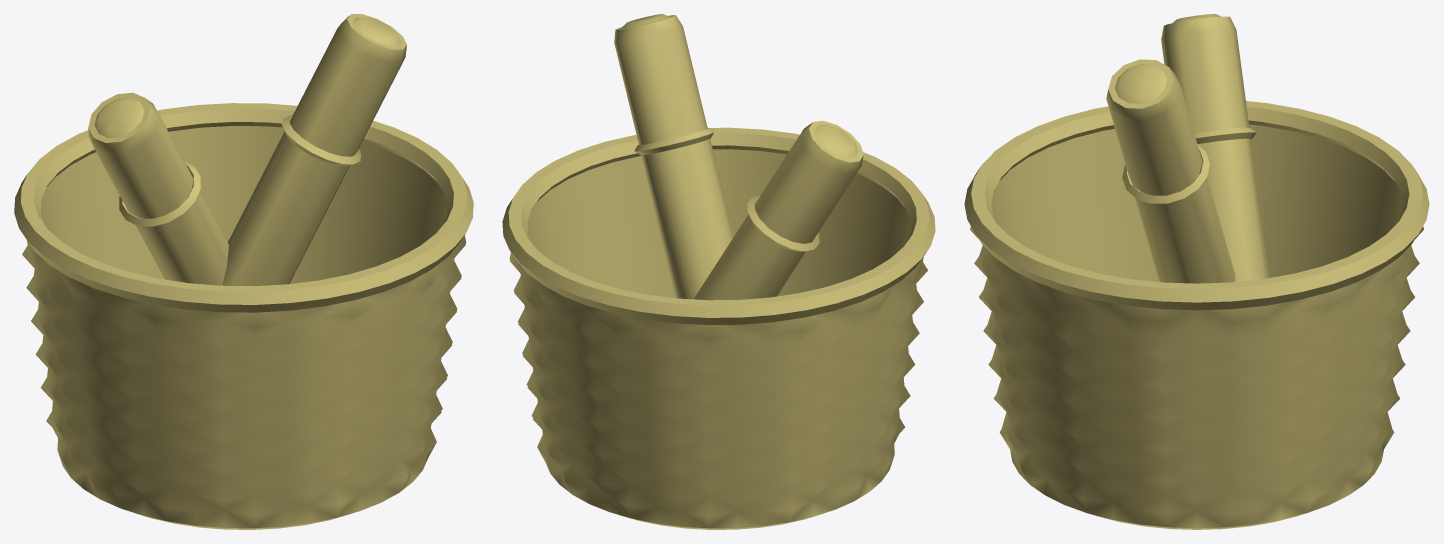
The model's file is P_ScrollBasket.fbx.
3 views of the same model, side by side, from view 1: azimuth 30°, elevation 25°; view 2: azimuth 150°, elevation 25°; view 3: azimuth 270°, elevation 25° (orthographic). The views are drawn at different scales.
Parts seen in each view (by area): view 1: P_ScrollBasket; view 2: P_ScrollBasket; view 3: P_ScrollBasket.
Part boxes in pixels (box(x1,y1,x2,y2)): P_ScrollBasket: box(14, 14, 473, 529); P_ScrollBasket: box(502, 14, 935, 529); P_ScrollBasket: box(964, 14, 1429, 529).
Bounding box in the file's own units: 0.416 × 0.4328 × 0.416.
